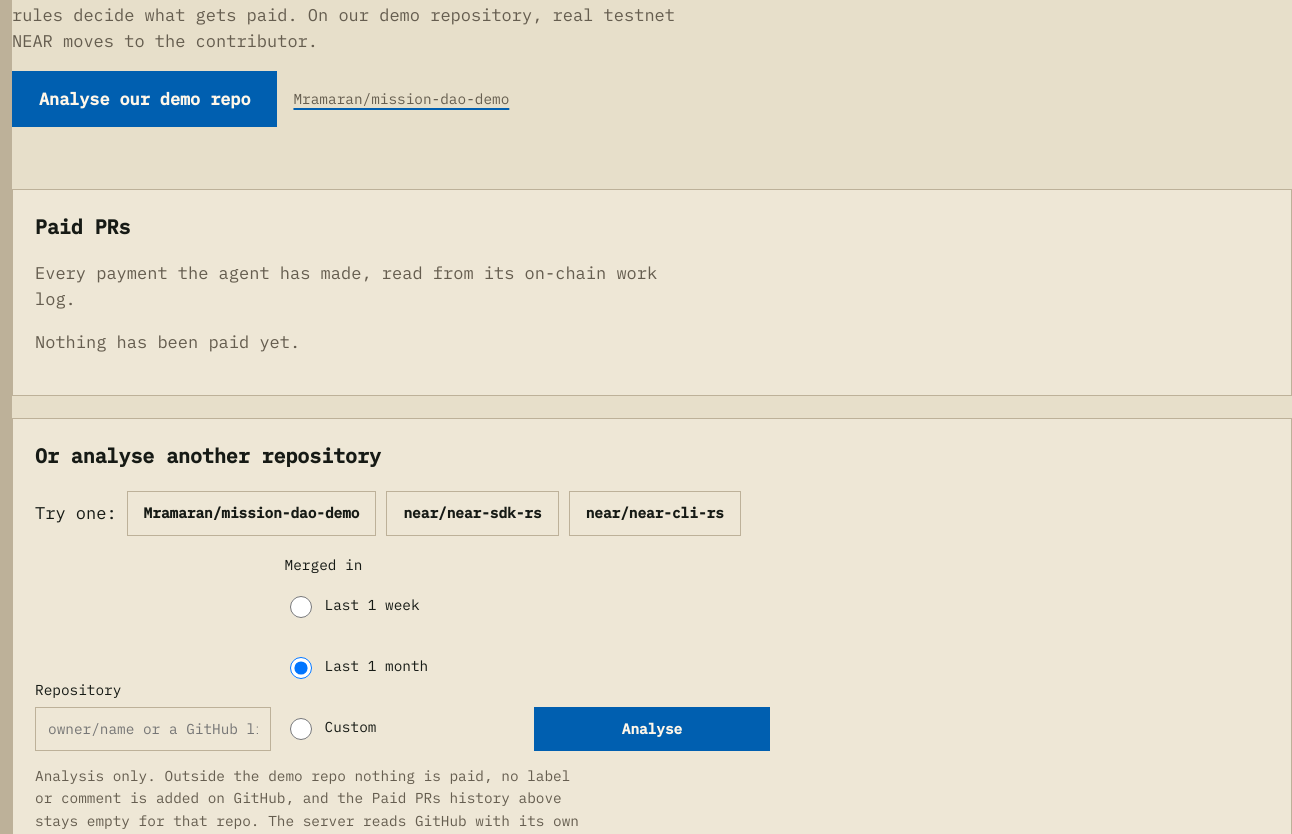
AnalyseRepo › keeps the pay failure message when the refresh also fails
(page scrolled)
Type "o/r" into the field labelled "Repository". click: (153, 729)
box: [35, 707, 271, 751]
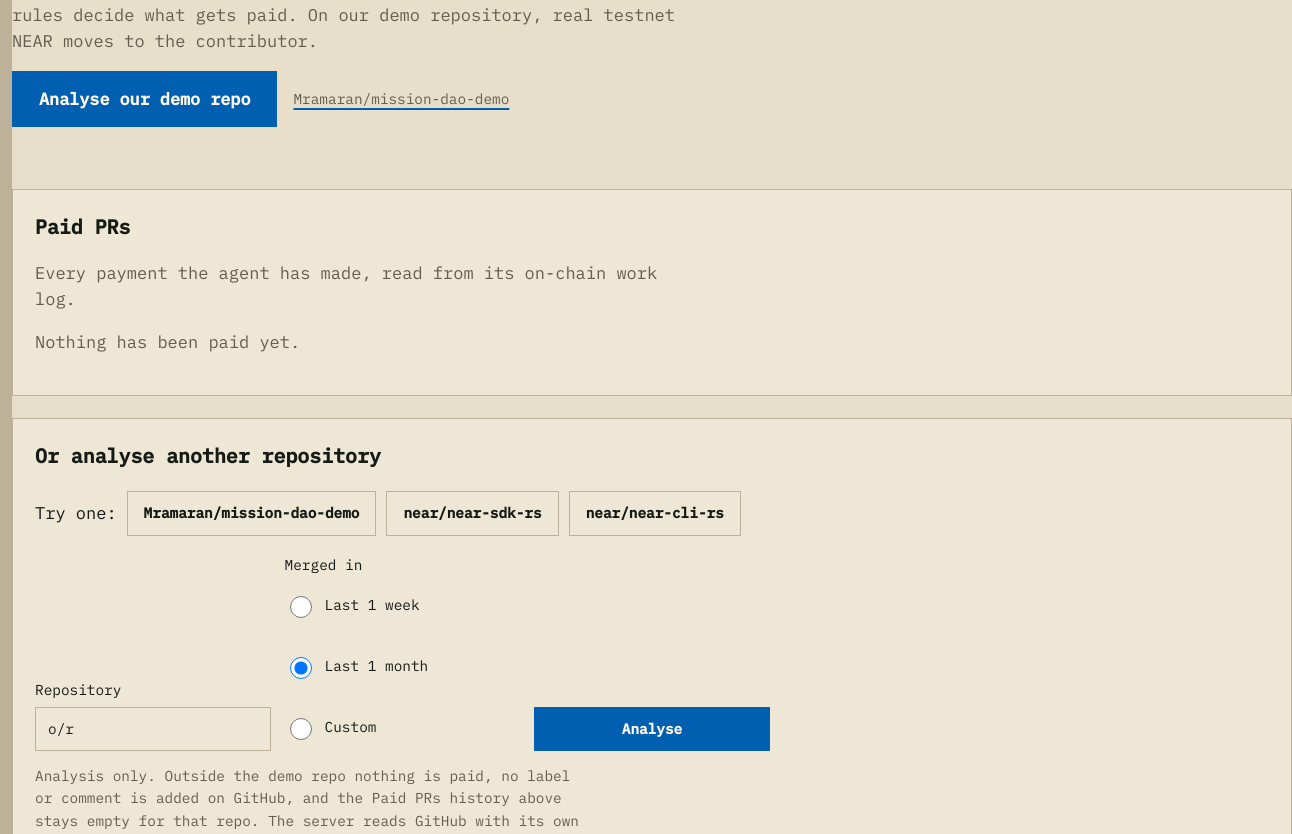
Click the button "Analyse". click: (652, 729)
box: [534, 707, 770, 751]
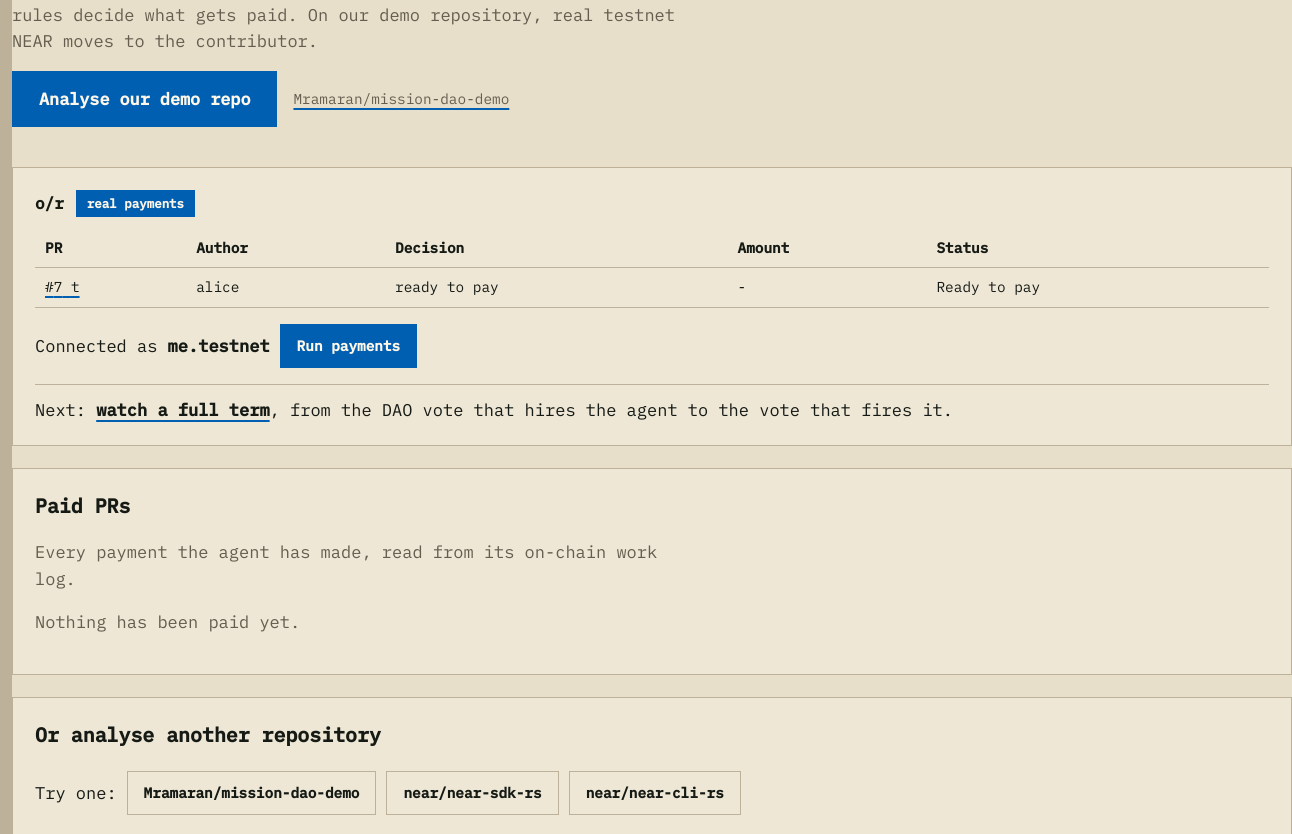
Click the button "Run payments". click: (348, 346)
box: [280, 324, 417, 368]
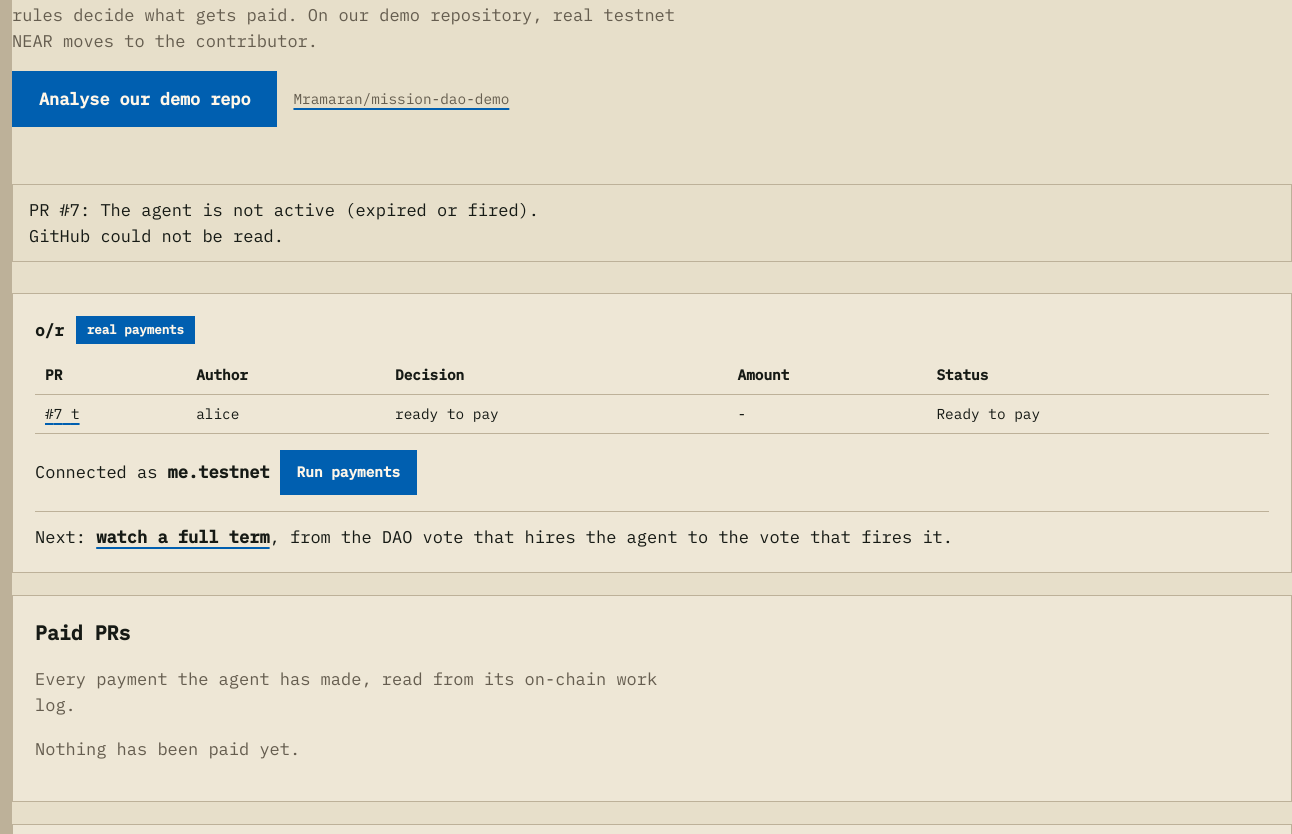
Now the message shows "PR #7: The agent is not active", box [29, 199, 539, 247]
Now the message shows "GitHub could not be read.", box [29, 199, 539, 247]
